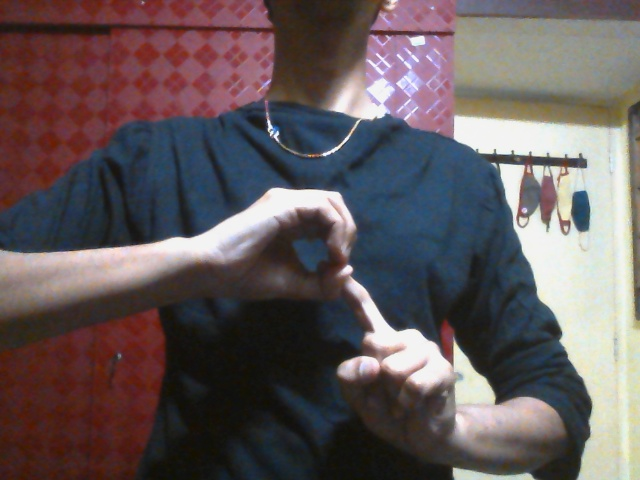Q: (219, 186, 458, 456)
